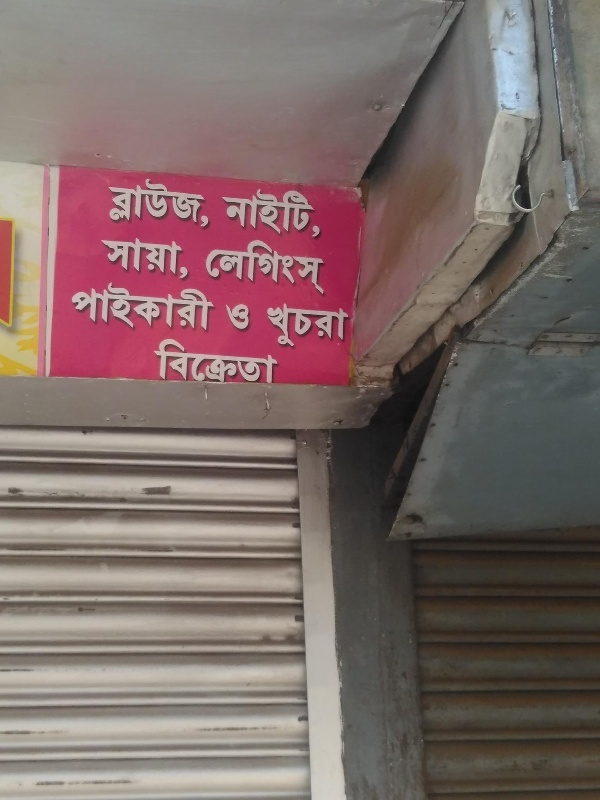text: (17, 197, 32, 343), (2, 197, 16, 343), (33, 197, 43, 343), (209, 234, 224, 299), (225, 234, 240, 299), (241, 234, 256, 299), (257, 234, 272, 299), (273, 234, 288, 299), (289, 234, 304, 299), (305, 234, 320, 299), (81, 278, 96, 335), (97, 278, 112, 335), (113, 278, 128, 335), (129, 278, 144, 335), (145, 278, 160, 335), (161, 278, 176, 335), (177, 278, 192, 335), (193, 278, 208, 335), (193, 176, 209, 229), (225, 185, 240, 241), (241, 185, 256, 241), (257, 185, 272, 241), (273, 185, 288, 241), (289, 185, 304, 241), (305, 185, 320, 241), (113, 176, 128, 229), (129, 176, 144, 229), (145, 176, 160, 229), (161, 176, 176, 229), (177, 176, 192, 229), (161, 334, 176, 384), (177, 334, 192, 384), (193, 334, 208, 384), (209, 334, 224, 384), (225, 334, 240, 384), (241, 334, 256, 384), (257, 334, 272, 384), (113, 235, 128, 282), (129, 235, 144, 282), (145, 235, 160, 282), (161, 235, 176, 282), (273, 302, 288, 348), (289, 302, 304, 348), (305, 302, 320, 348), (321, 302, 336, 348), (69, 278, 80, 335), (177, 235, 190, 282), (209, 278, 219, 335), (100, 235, 112, 282), (337, 302, 349, 348), (225, 303, 240, 330), (321, 234, 326, 299), (273, 334, 279, 384), (241, 303, 251, 330), (155, 334, 160, 384), (267, 302, 272, 348), (321, 185, 325, 241), (109, 176, 112, 229), (223, 185, 224, 241)
